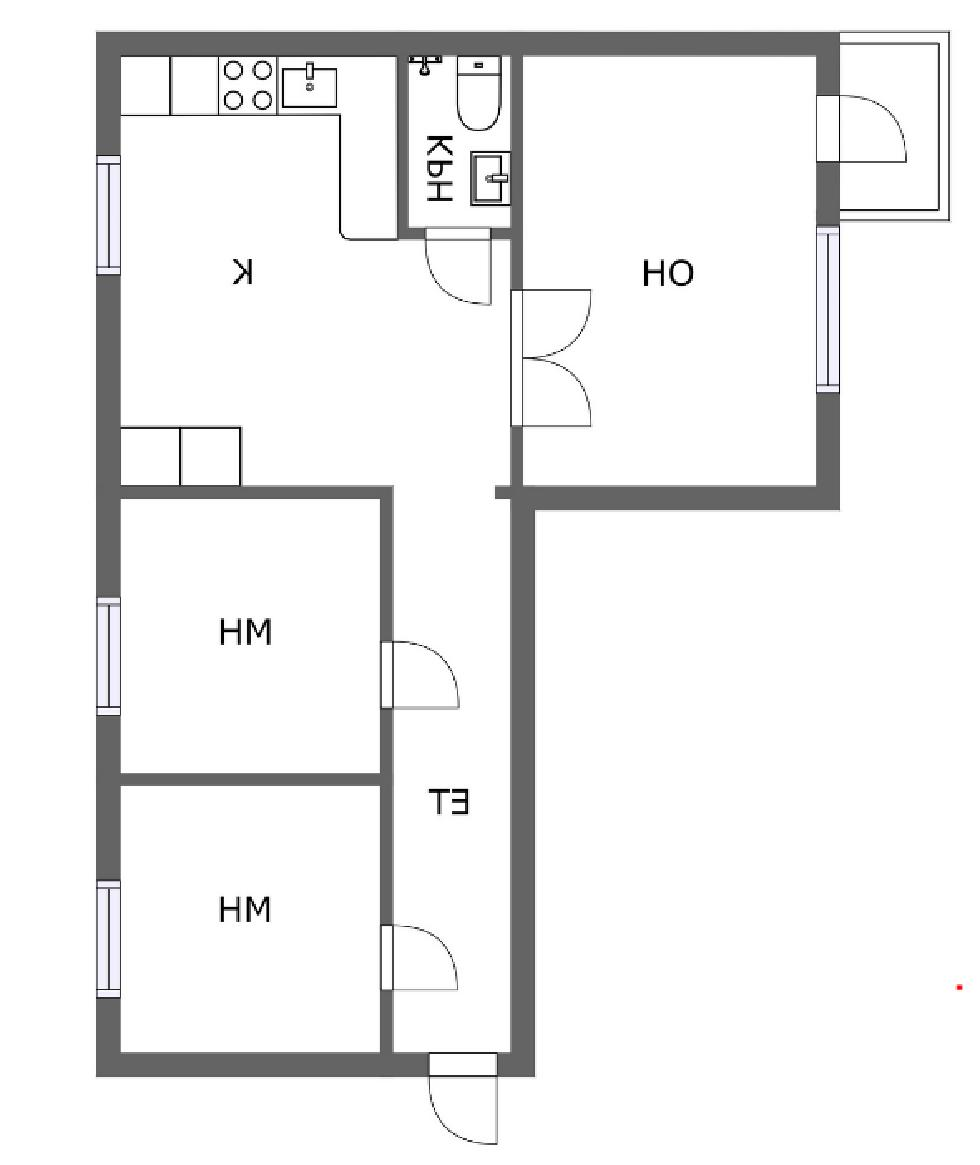door: (500, 286, 601, 434), (427, 1054, 505, 1150), (378, 641, 468, 720), (815, 96, 911, 170), (426, 224, 495, 313), (381, 925, 463, 997)
window: (820, 232, 844, 397), (92, 882, 122, 1001), (94, 157, 122, 274), (95, 593, 120, 717)
zone: (120, 56, 508, 1054), (518, 51, 818, 488), (123, 497, 381, 778), (125, 787, 378, 1053), (841, 46, 936, 207)
